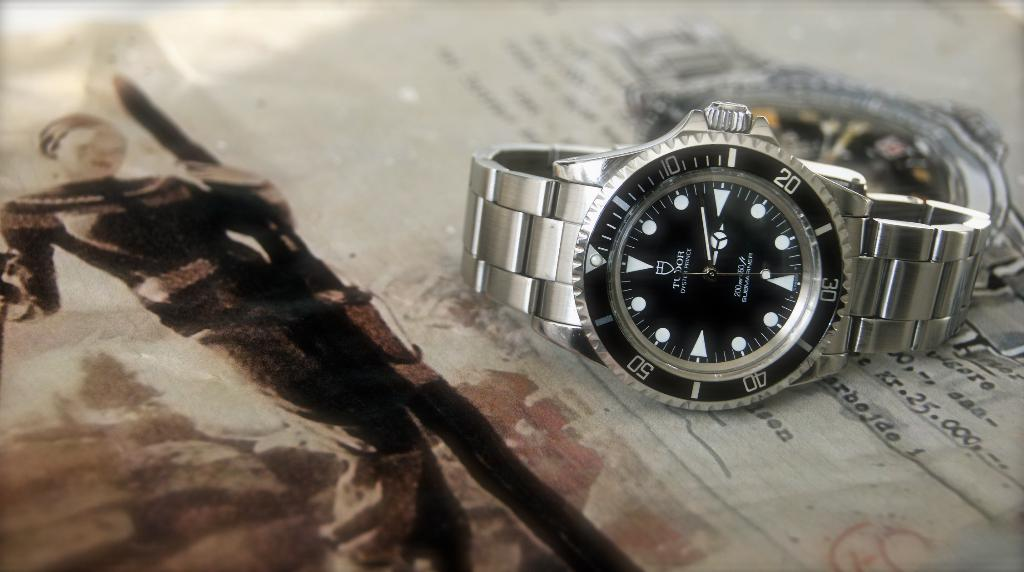watch: (465, 55, 1009, 411)
